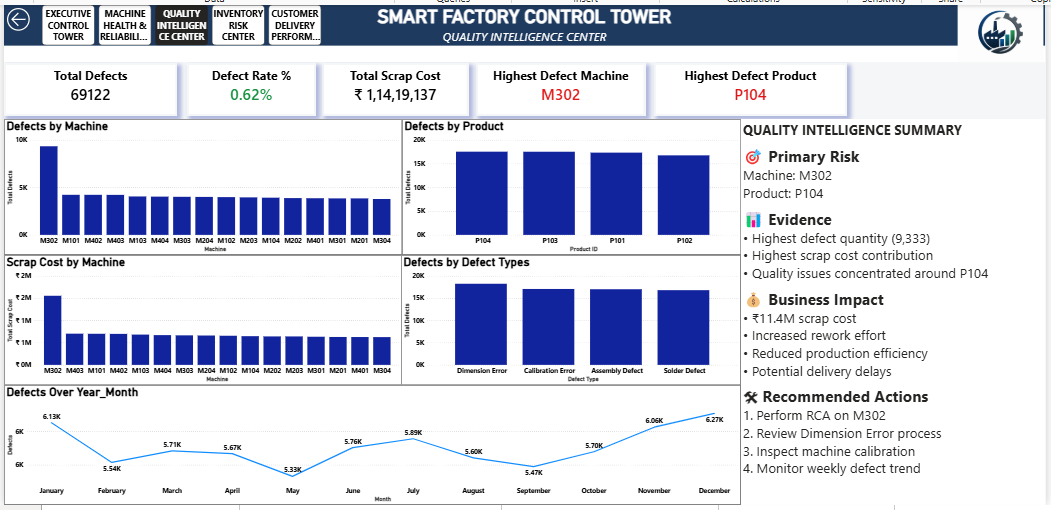

What the dashboard file says about the page in this screenshot:
{"tool":"powerbi","page":{"name":"QUALITY INTELLIGENCE CENTER","canvas":[2537,1218],"ordinal":2},"visuals":[{"type":"cardVisual","fields":{"Data":["Measure.Total Defects"]},"box":[0,141.6,422.4,129.6],"z":0},{"type":"cardVisual","fields":{"Data":["Measure.Defect Rate %"]},"box":[446.4,141.6,314.4,129.6],"z":1000},{"type":"cardVisual","fields":{"Data":["Measure.Total Scrap Cost"]},"box":[774.2,140.8,357.5,129],"z":2000},{"type":"cardVisual","fields":{"Data":["Measure.Highest Defect Machine"]},"box":[1150.5,140.8,414,129],"z":3000},{"type":"cardVisual","fields":{"Data":["Measure.Highest Defect Product"]},"box":[1583.3,140.8,470.4,129],"z":4000},{"type":"textbox","title":"SMART FACTORY CONTROL TOWER","box":[0,0,2535.9,138.9],"z":5000},{"type":"image","box":[2319.1,0,216.8,138.9],"z":6000},{"type":"actionButton","box":[0,0,115,70],"z":7000},{"type":"clusteredColumnChart","title":"Defects by Machine","fields":{"Category":["FACT_Quality.Machine ID"],"Y":["Measure.Total Defects"]},"box":[0,277.7,969.5,331.3],"z":8000},{"type":"clusteredColumnChart","title":"Scrap Cost by Machine","fields":{"Category":["FACT_Quality.Machine ID"],"Y":["Measure.Total Scrap Cost"]},"box":[0,609,969.5,316.7],"z":9000},{"type":"clusteredColumnChart","title":"Defects by Product","fields":{"Y":["Measure.Total Defects"],"Category":["FACT_Quality.Product ID"]},"box":[969.5,277.7,825.8,331.3],"z":10000},{"type":"clusteredColumnChart","title":"Defects by Defect Types ","fields":{"Y":["Measure.Total Defects"],"Category":["FACT_Quality.Defect Type"]},"box":[967.1,609,828.2,316.7],"z":11000},{"type":"lineChart","title":"Defects Over Year_Month","fields":{"Y":["Measure.Total Defects"],"Category":["dim_date.Year_Month.Variation.Date Hierarchy.Month"]},"box":[0,925.7,1795.3,292.3],"z":12000},{"type":"textbox","box":[1795.3,277.7,740.5,940.3],"z":13000},{"type":"pageNavigator","box":[92.8,0,682,98.2],"z":14000}]}

Visuals, with their boxes on the page's 2537x1218 design canvas (x1, y1, x2, y2). These are canvas units, not pixel positions in the 1051x510 screenshot, which may show the page scaled, cropped or inside an application window:
cardVisual - Measure.Total Defects: x1=0, y1=142, x2=422, y2=271
cardVisual - Measure.Defect Rate %: x1=446, y1=142, x2=761, y2=271
cardVisual - Measure.Total Scrap Cost: x1=774, y1=141, x2=1132, y2=270
cardVisual - Measure.Highest Defect Machine: x1=1150, y1=141, x2=1564, y2=270
cardVisual - Measure.Highest Defect Product: x1=1583, y1=141, x2=2054, y2=270
"SMART FACTORY CONTROL TOWER" textbox: x1=0, y1=0, x2=2536, y2=139
image: x1=2319, y1=0, x2=2536, y2=139
actionButton: x1=0, y1=0, x2=115, y2=70
"Defects by Machine" clusteredColumnChart: x1=0, y1=278, x2=970, y2=609
"Scrap Cost by Machine" clusteredColumnChart: x1=0, y1=609, x2=970, y2=926
"Defects by Product" clusteredColumnChart: x1=970, y1=278, x2=1795, y2=609
"Defects by Defect Types " clusteredColumnChart: x1=967, y1=609, x2=1795, y2=926
"Defects Over Year_Month" lineChart: x1=0, y1=926, x2=1795, y2=1218
textbox: x1=1795, y1=278, x2=2536, y2=1218
pageNavigator: x1=93, y1=0, x2=775, y2=98
